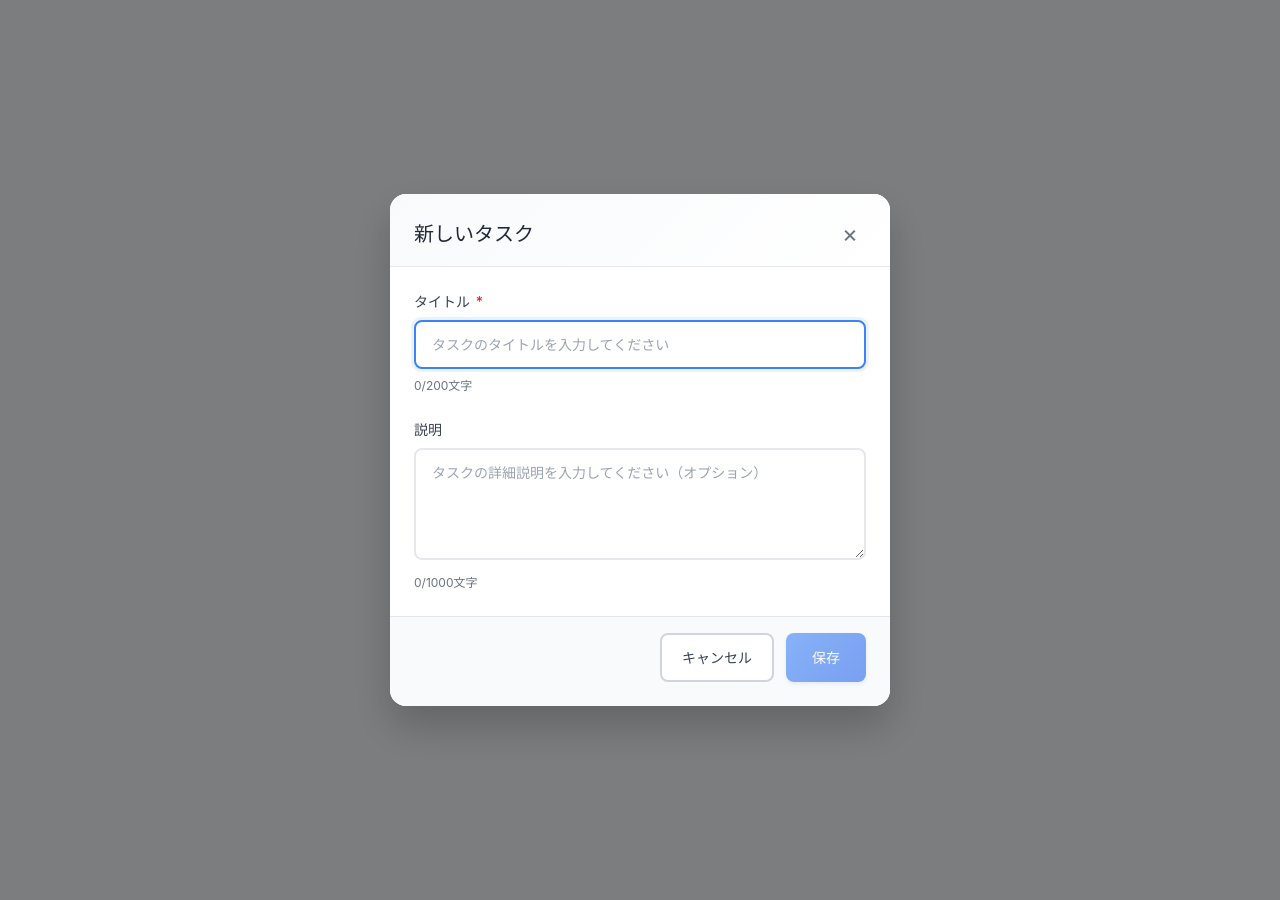
TaskForm › Form Validation › save button is enabled when form has valid changes
Type "Valid Title" into the field labelled "タイトル *" at (640, 344), box left=414, top=320, right=866, bottom=369
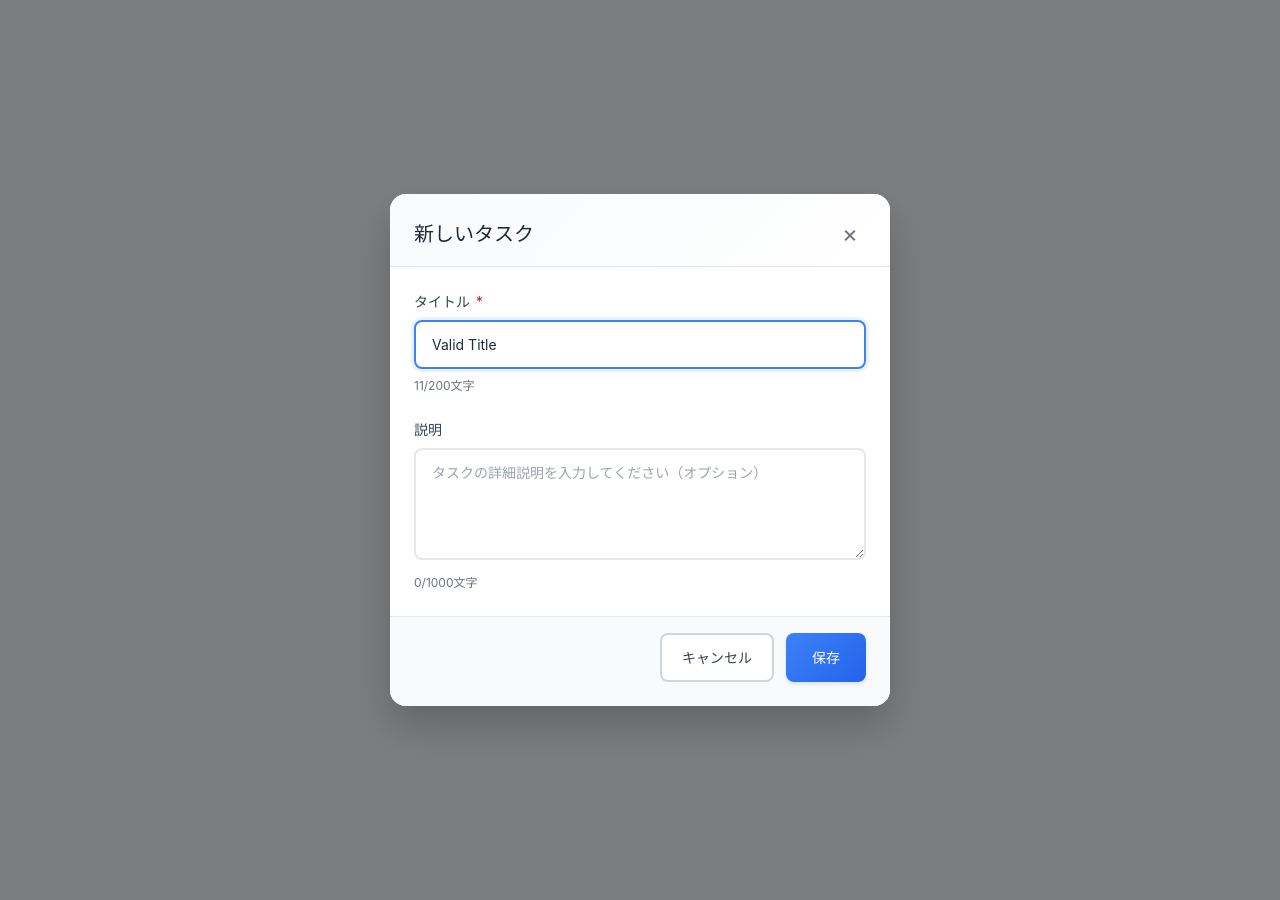
Result: the button "保存" is enabled at left=786, top=633, right=866, bottom=682
